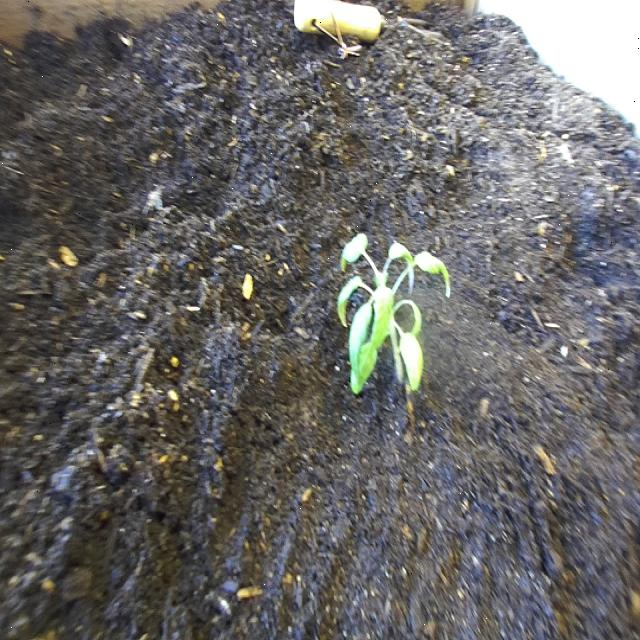Healthy: (338, 232, 452, 441)
